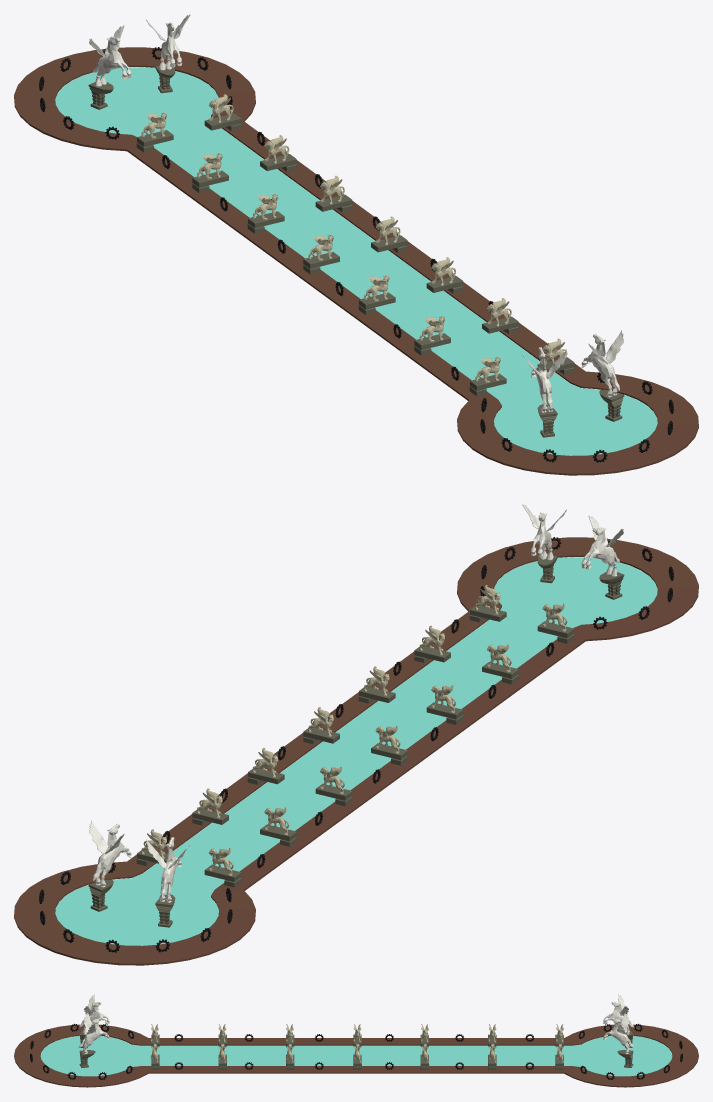
The model's file is PegasoLod3.fbx.
3 views of the same model, one above another, from view 1: azimuth 30°, elevation 25°; view 2: azimuth 150°, elevation 25°; view 3: azimuth 270°, elevation 25° (orthographic). The views are drawn at different scales.
Visible parts, largest first — view 1: Torus.001, agua; view 2: Torus.001, agua; view 3: Torus.001, agua.
Boxes of the visible parts, x1=… form: Torus.001: x1=14, y1=14, x2=698, y2=475; agua: x1=55, y1=67, x2=657, y2=455; Torus.001: x1=14, y1=504, x2=698, y2=965; agua: x1=55, y1=557, x2=657, y2=945; Torus.001: x1=14, y1=994, x2=698, y2=1087; agua: x1=40, y1=1036, x2=672, y2=1076.
Bounding box in the file's own units: 1348 × 485 × 6273.
